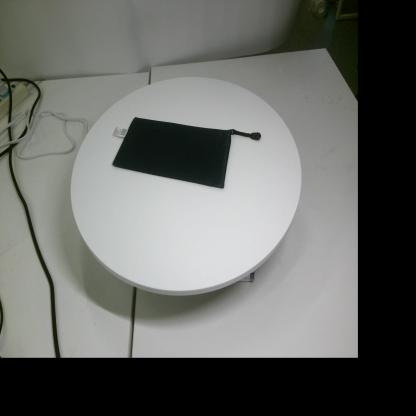Stationery: (112, 117, 261, 189)
